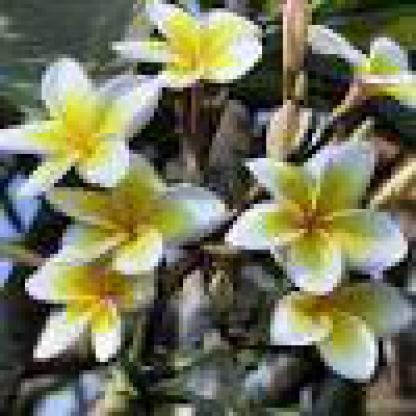Melati: (230, 122, 413, 305), (47, 155, 201, 288), (97, 10, 292, 93), (22, 55, 142, 176)
